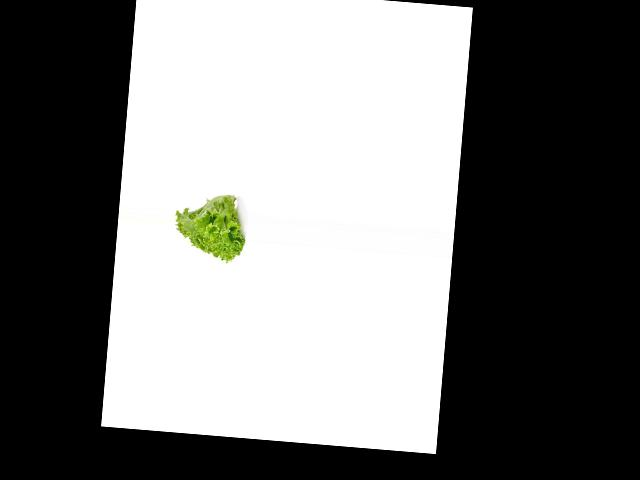lettuce: (169, 186, 249, 268)
